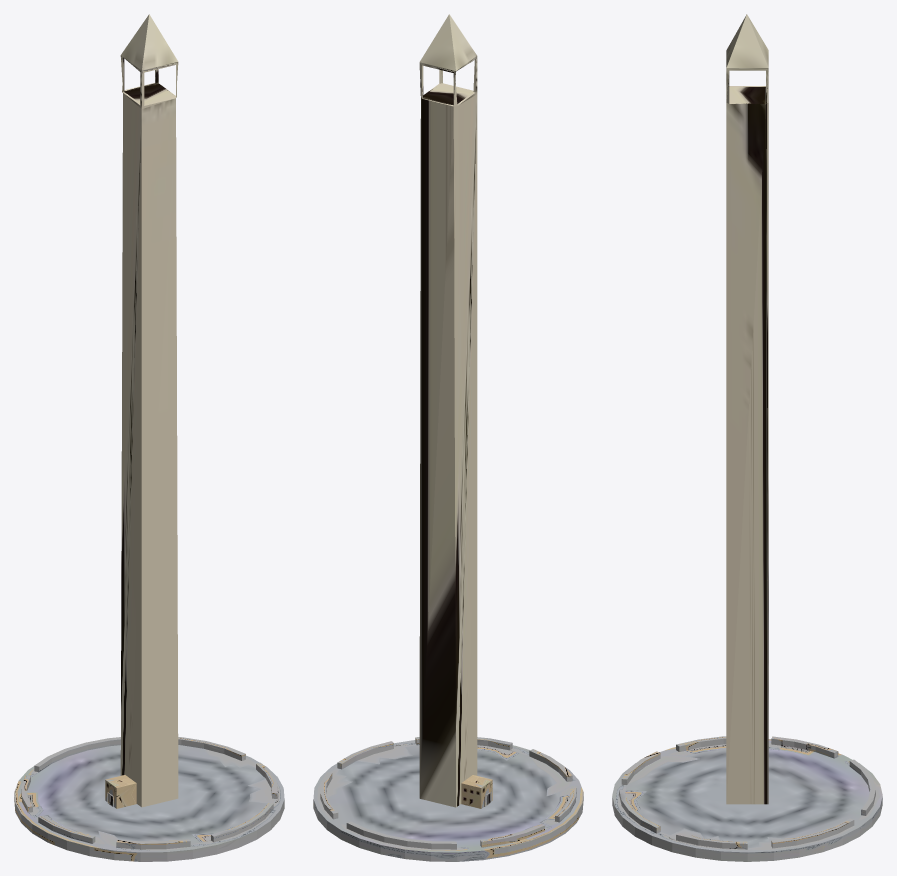
3 views of the same model, side by side, from view 1: azimuth 30°, elevation 25°; view 2: azimuth 150°, elevation 25°; view 3: azimuth 270°, elevation 25° (orthographic).
Visible parts, largest first — view 1: defaultMaterial (×2); view 2: defaultMaterial (×2); view 3: defaultMaterial (×2).
Boxes of the visible parts, x1,y1,x2,y2 form: defaultMaterial (×2): (14,14,284,861); defaultMaterial (×2): (313,14,583,861); defaultMaterial (×2): (612,14,882,861).
Size of the model in its own units: 1288 by 4153 by 1288.
Materials: 2 (2 with a texture image).
